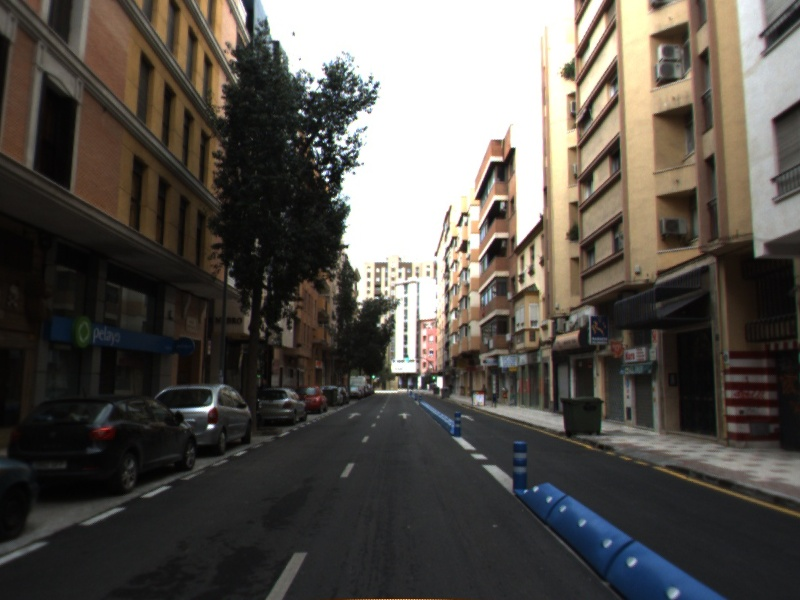STRAIGHT: (346, 410, 363, 420), (396, 411, 413, 420), (460, 413, 476, 422)
